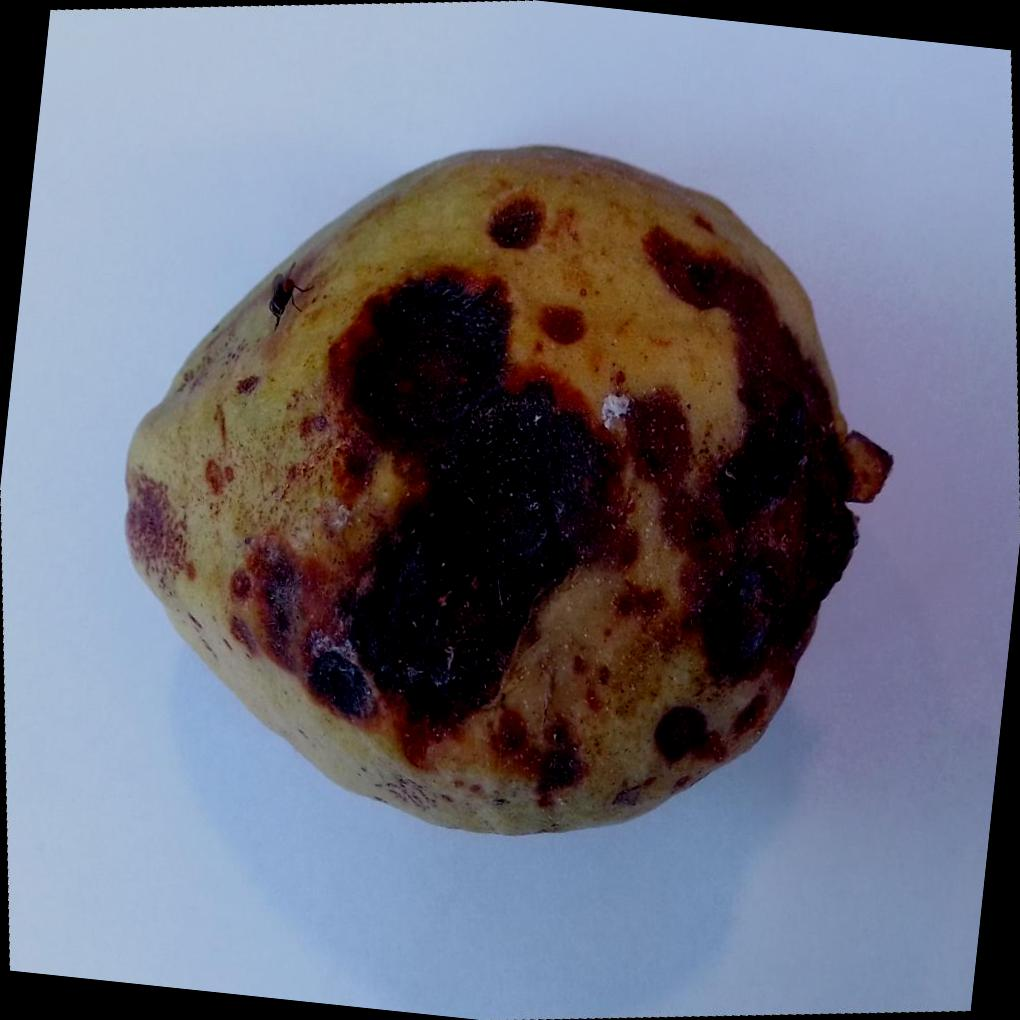FreshOrange: (121, 148, 889, 840)
